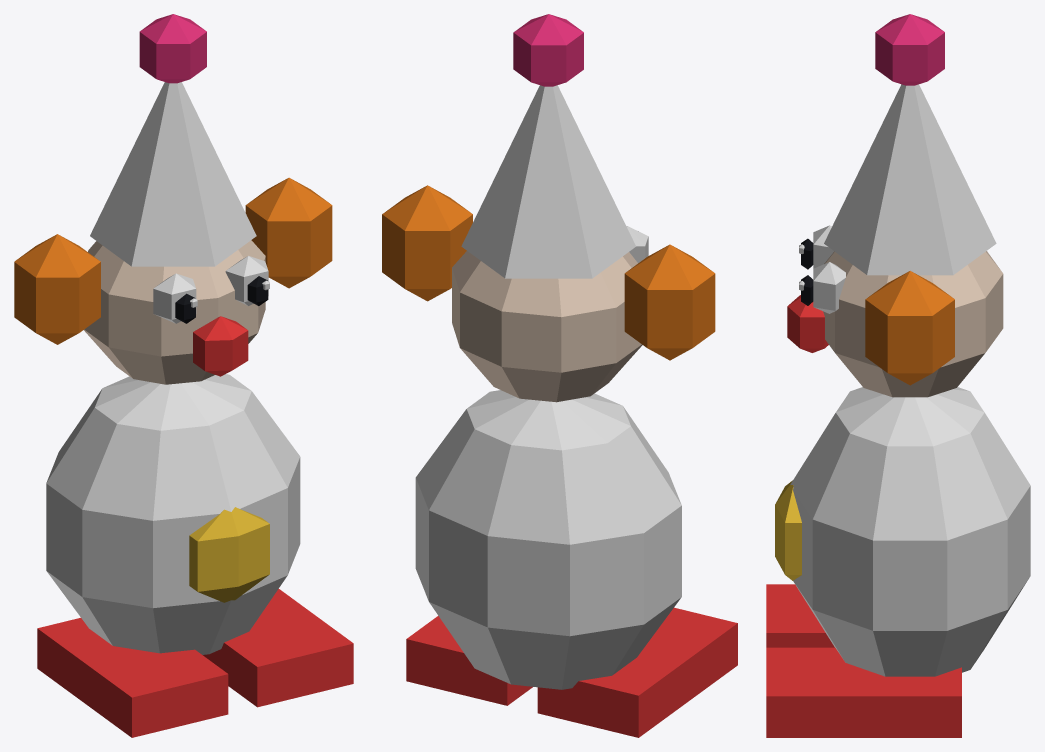
Rendered from critter_clownbot.glb.
The picture shows the model from 3 angles, left to right: view 1: azimuth 30°, elevation 25°; view 2: azimuth 150°, elevation 25°; view 3: azimuth 270°, elevation 25°; orthographic projection. The views are drawn at different scales.
Parts seen in each view (by area): view 1: clownbot; view 2: clownbot; view 3: clownbot.
Boxes of the visible parts, <box> form: clownbot: <box>14,14,353,737</box>; clownbot: <box>382,14,737,737</box>; clownbot: <box>766,14,1030,737</box>.
Size of the model in its own units: 0.615 by 1.28 by 0.4592.
